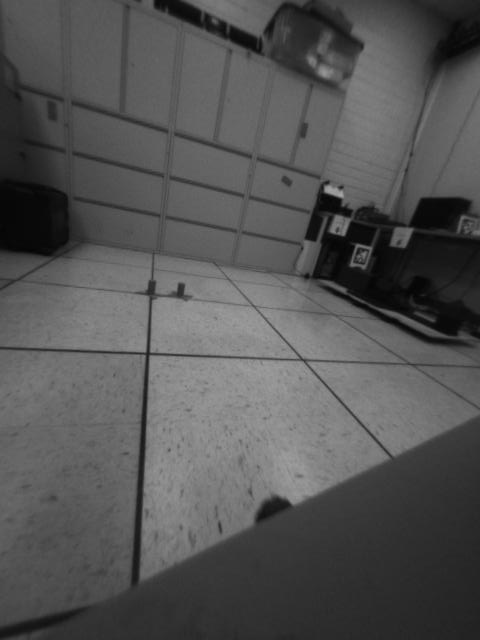X: (135, 279, 168, 304), (161, 282, 195, 302)
